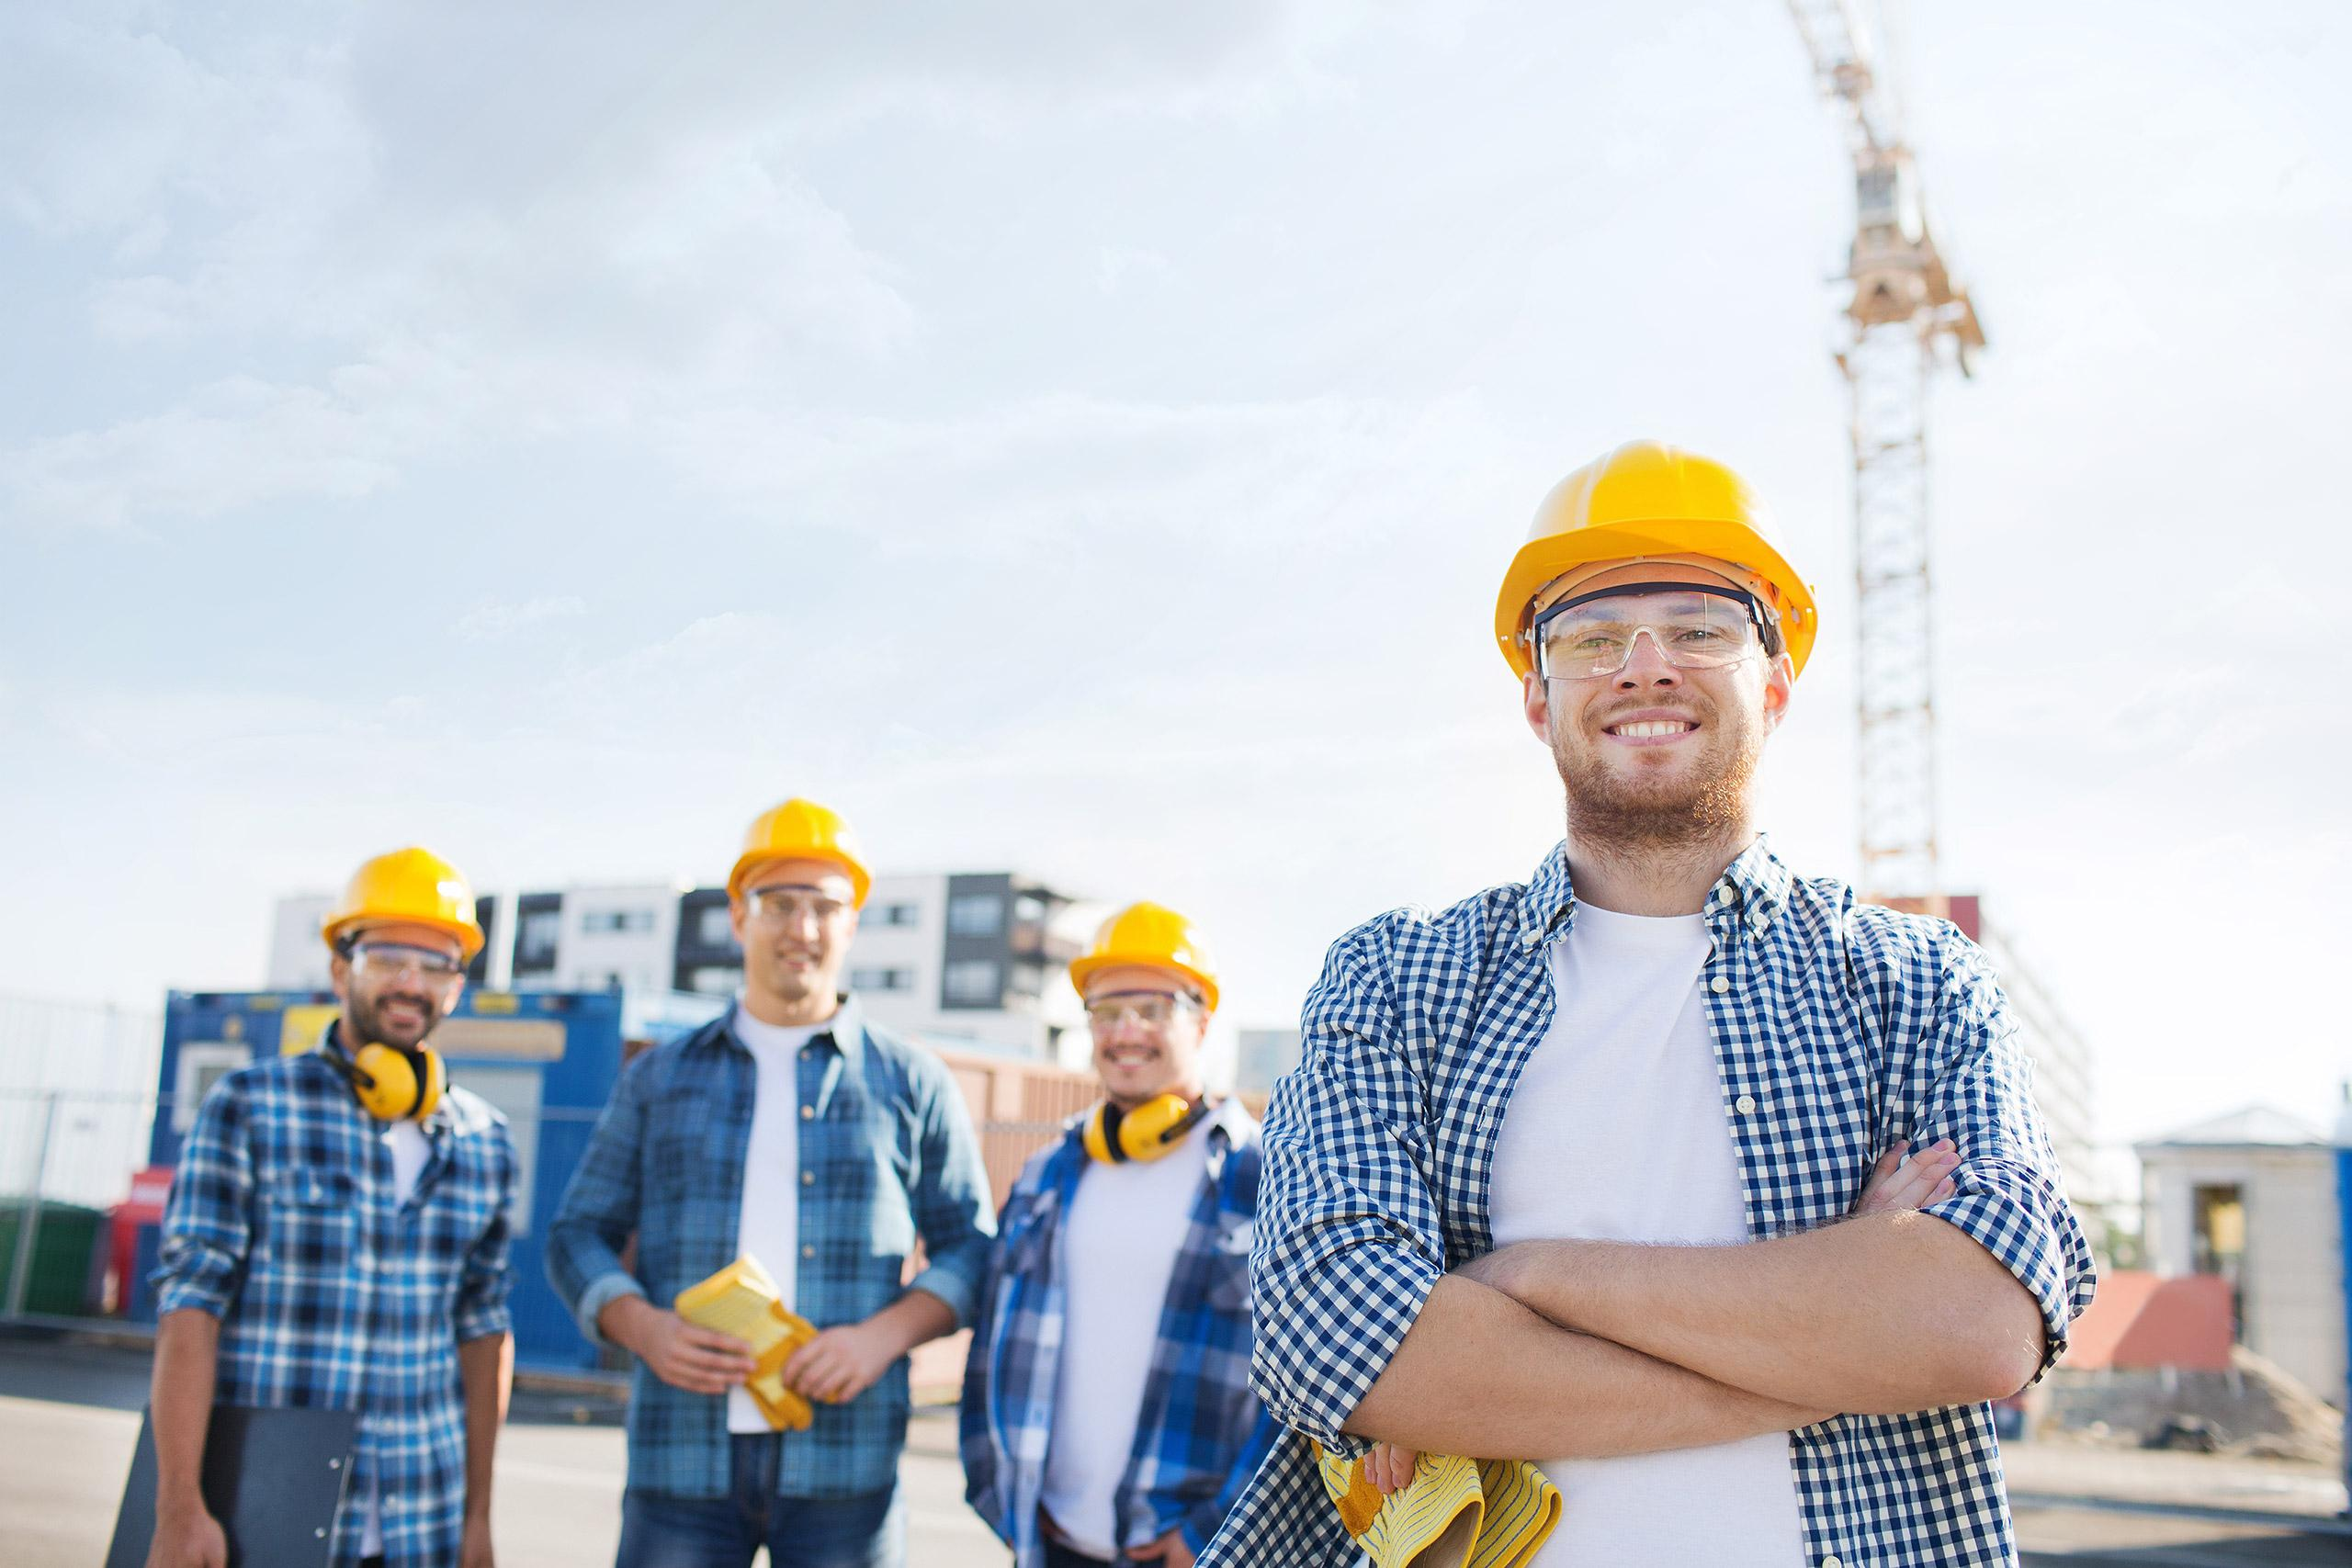helmet: (1491, 441, 1823, 669), (320, 847, 481, 966), (1073, 901, 1235, 1012), (728, 802, 868, 915)
